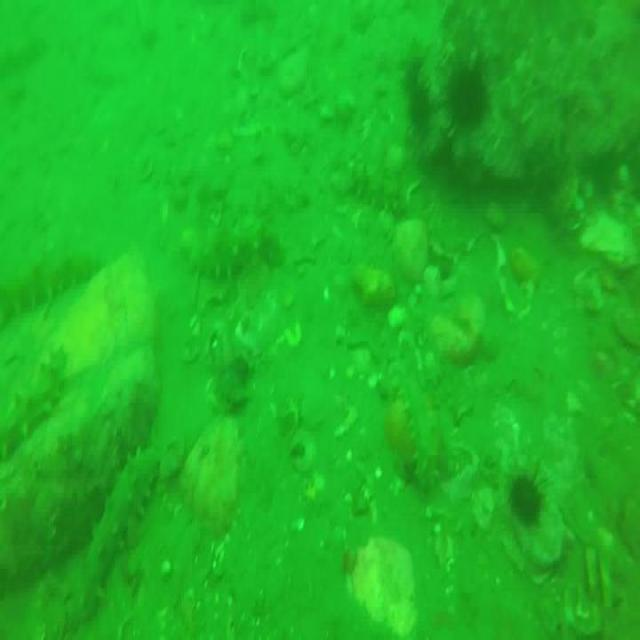echinus: (443, 49, 494, 131), (510, 468, 552, 528), (409, 80, 434, 138)
holothurian: (83, 449, 167, 608), (3, 244, 101, 322), (0, 351, 62, 474), (179, 218, 280, 288), (388, 362, 433, 493), (348, 158, 402, 217)
scallop: (388, 302, 410, 330), (369, 370, 378, 389), (345, 493, 355, 507), (296, 518, 306, 530), (374, 466, 383, 479), (433, 523, 443, 534), (346, 451, 353, 462)
